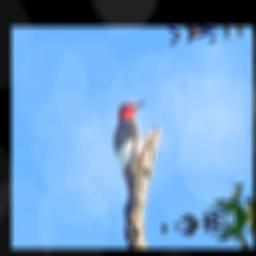Woodpecker: (100, 91, 163, 216)
